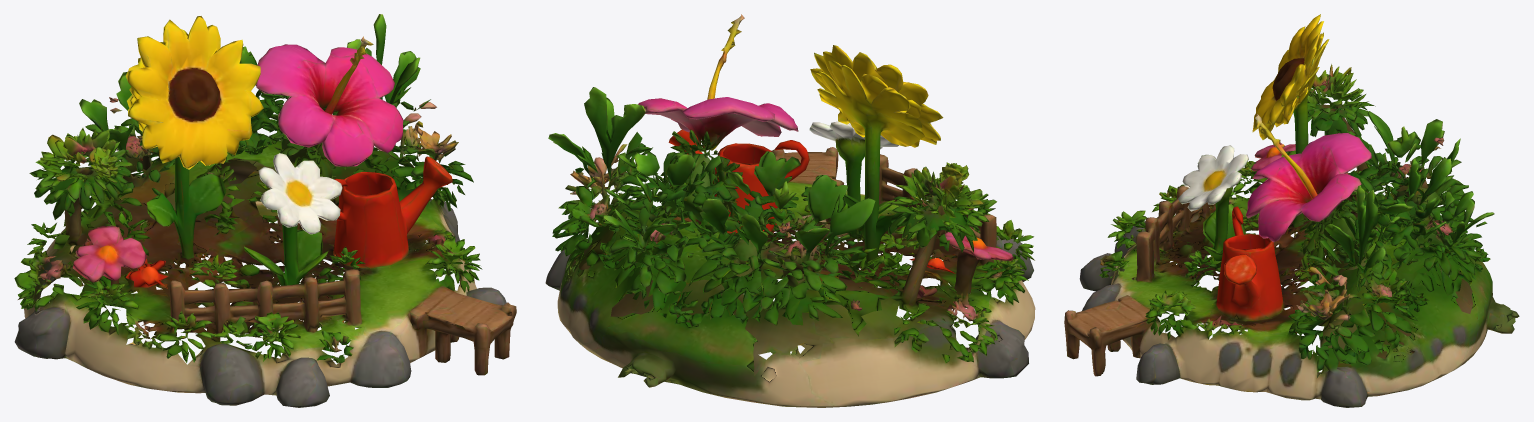
The model's file is isl-13.glb.
3 views of the same model, side by side, from view 1: azimuth 30°, elevation 25°; view 2: azimuth 150°, elevation 25°; view 3: azimuth 270°, elevation 25° (orthographic). The views are drawn at different scales.
Visible parts, largest first — view 1: world; view 2: world; view 3: world.
Part boxes in pixels (bbox=[...]): world: bbox=[14, 14, 516, 407]; world: bbox=[545, 14, 1035, 407]; world: bbox=[1064, 14, 1519, 407].
Bounding box in the file's own units: 0.9958 × 0.6229 × 0.9733.
Materials: 1 (1 with a texture image).
